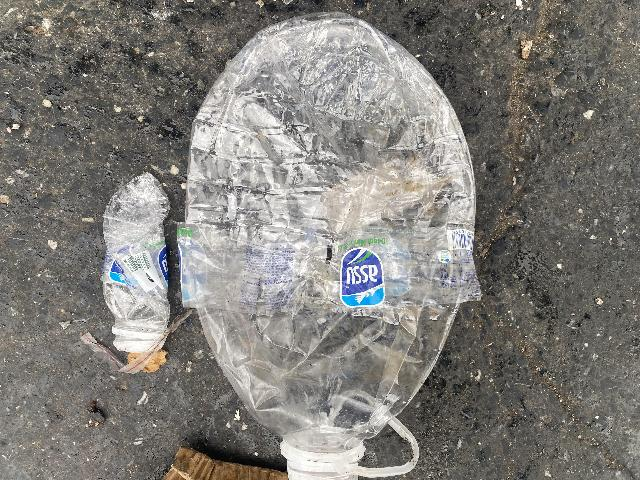Plastik: (183, 14, 476, 478), (183, 227, 470, 313), (94, 179, 179, 354), (279, 446, 365, 480)
